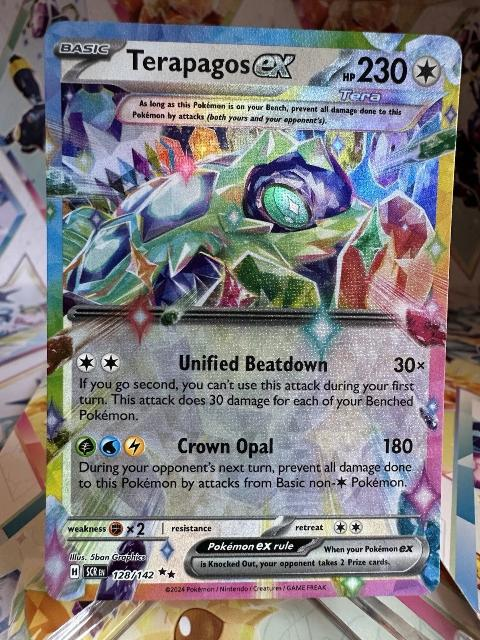Card: (40, 16, 467, 605)
Name: (118, 43, 301, 86)
